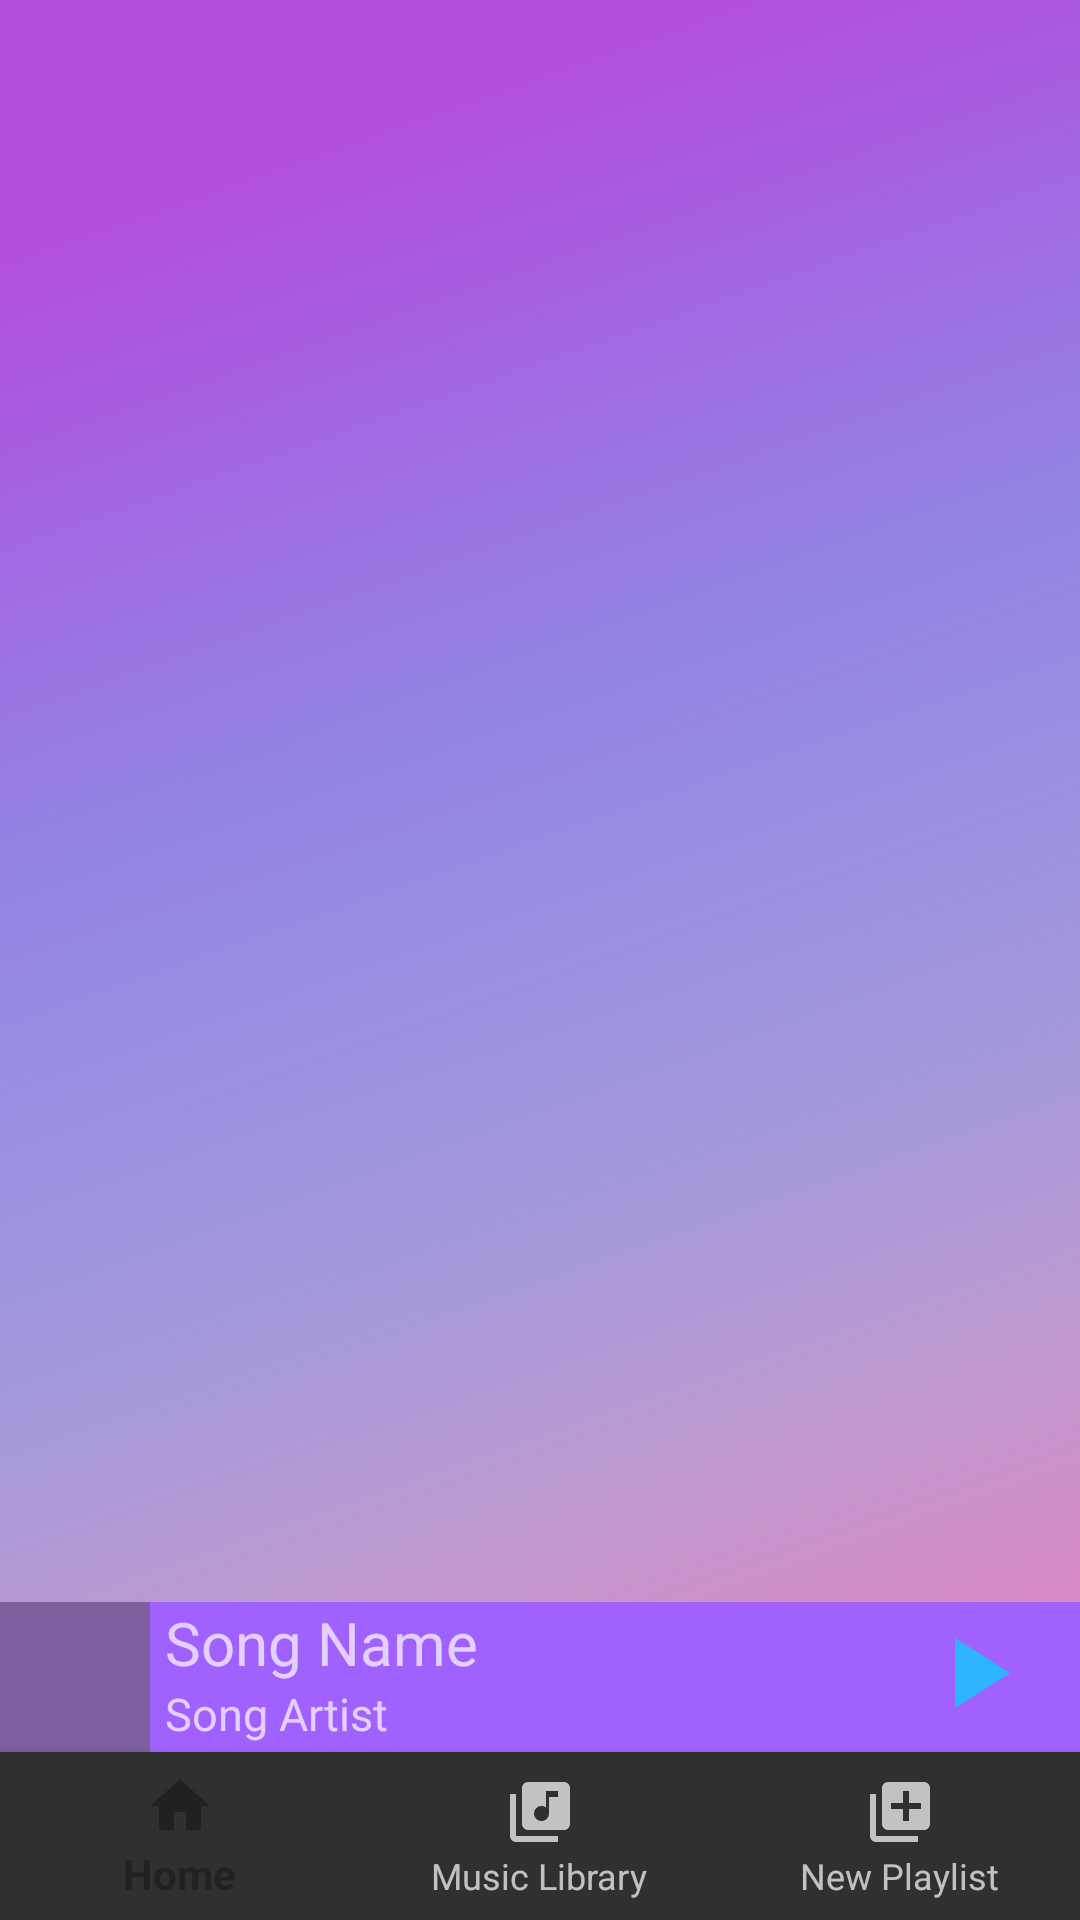

Screen size 1080 x 1920. Icon name, then its center in pixels as (x=x, y=y):
play arrow: (x=982, y=1673)
